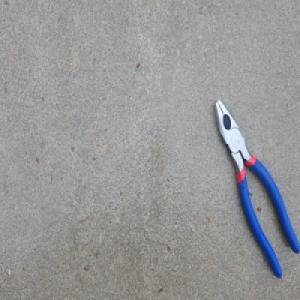Pliers: (213, 97, 300, 279)
